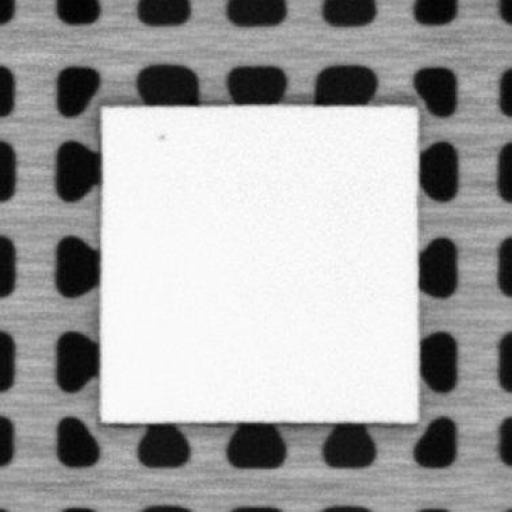DIE_INK: (153, 126, 168, 139)
